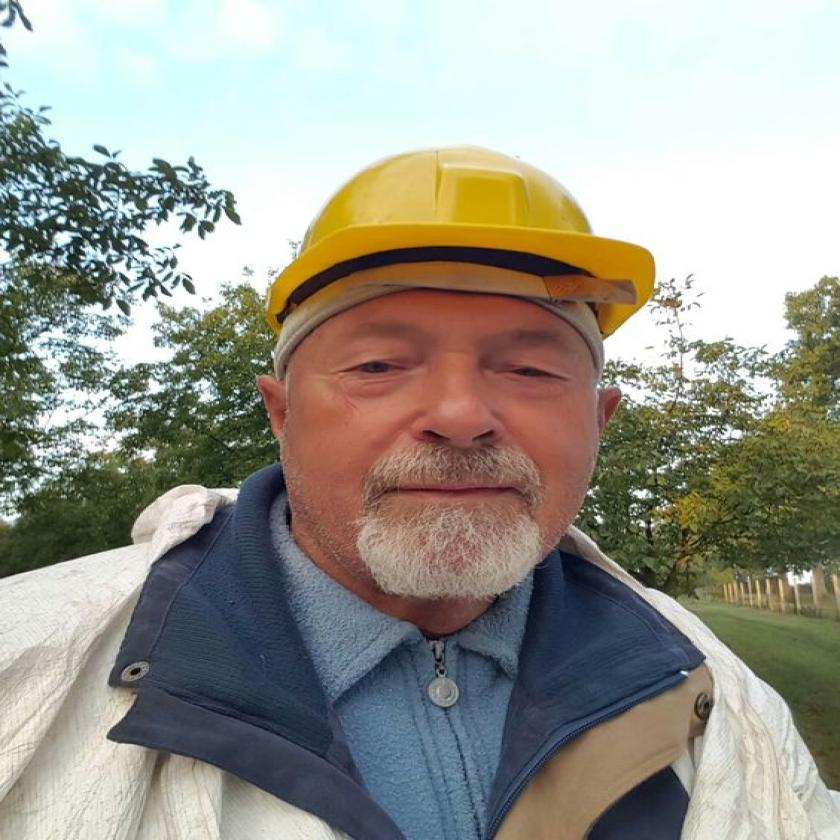Con_casco: (256, 139, 664, 629)
